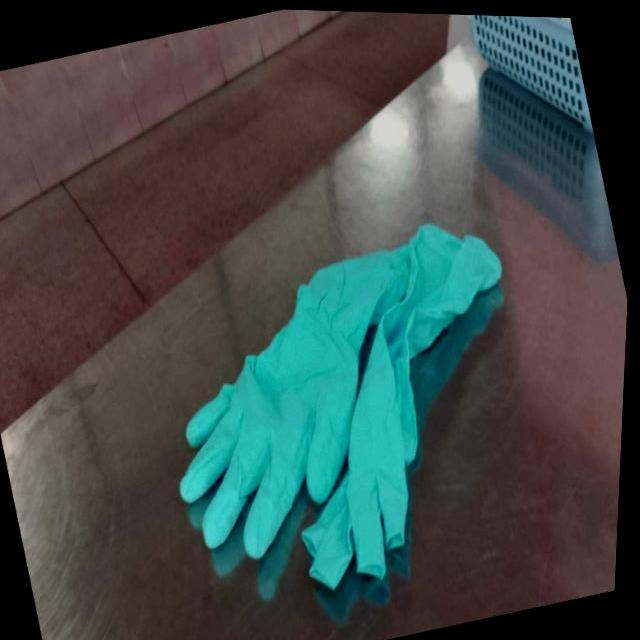General: (1, 8, 634, 639), (466, 12, 620, 264)
Infectious: (177, 222, 504, 612)
